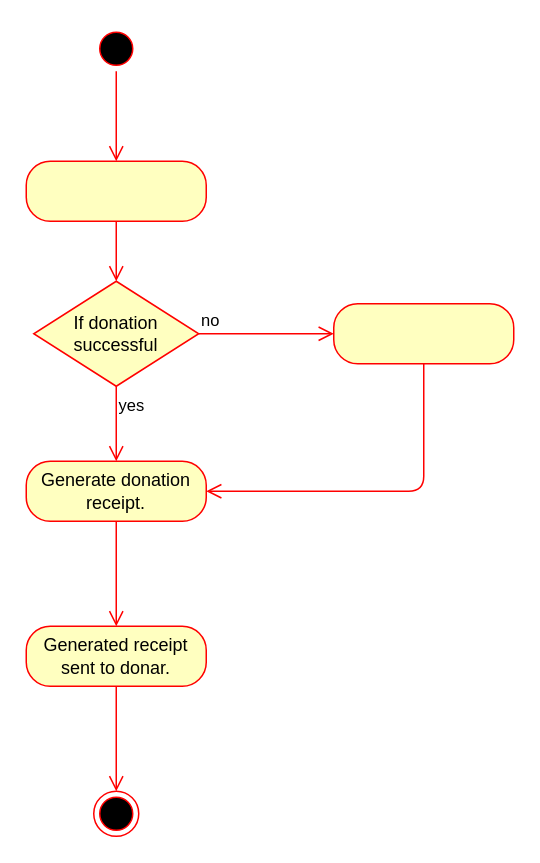
The diagram is 540 pixels wide and 863 high, and some of its shapes have lost their labels. The shapes that lost their labels are listed below. From the top down, each one's centre as x and y in pixels, then its label:
the point at 115,190: End-User will make donation
the point at 423,333: Try again
